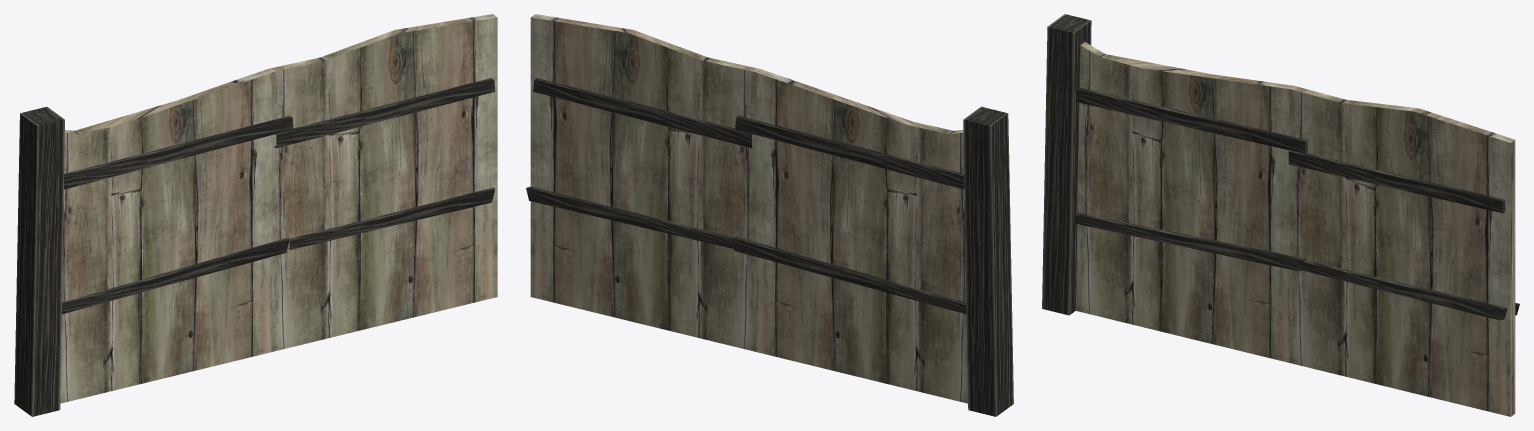
File: pir_m_bld_wal_shanty60.fbx
3 renders of one model, left to right at view 1: azimuth 30°, elevation 25°; view 2: azimuth 150°, elevation 25°; view 3: azimuth 330°, elevation 25°, orthographic. The views are drawn at different scales.
Parts seen in each view (by area): view 1: wall1, crossboard, crossboard1, cross_board, cross_board1; view 2: wall1, crossboard, crossboard1, cross_board, cross_board1; view 3: wall1, crossboard, crossboard1, cross_board, cross_board1.
Part boxes in pixels (left/top/right/bottom): wall1: left=14, top=14, right=497, bottom=416; crossboard: left=64, top=115, right=293, bottom=189; crossboard1: left=274, top=78, right=495, bottom=148; cross_board: left=61, top=237, right=289, bottom=314; cross_board1: left=288, top=187, right=494, bottom=249; wall1: left=530, top=14, right=1013, bottom=416; crossboard: left=735, top=115, right=964, bottom=189; crossboard1: left=533, top=78, right=754, bottom=148; cross_board: left=731, top=236, right=966, bottom=314; cross_board1: left=526, top=186, right=733, bottom=248; wall1: left=1042, top=14, right=1515, bottom=416; crossboard: left=1076, top=87, right=1307, bottom=153; crossboard1: left=1288, top=150, right=1505, bottom=213; cross_board: left=1074, top=213, right=1305, bottom=271; cross_board1: left=1302, top=260, right=1519, bottom=320.
Size of the model in its own units: 6337 by 3697 by 412.
Materials: 2 (2 with a texture image).
